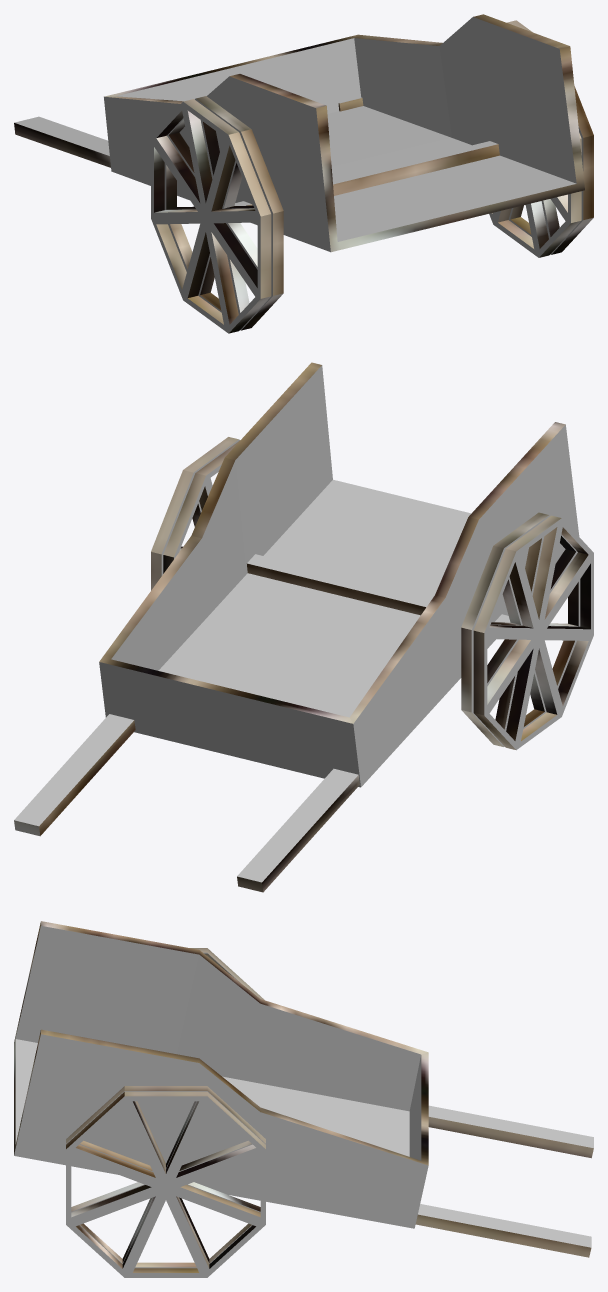
The model's file is Cart.fbx.
3 views of the same model, one above another, from view 1: azimuth 30°, elevation 25°; view 2: azimuth 150°, elevation 25°; view 3: azimuth 270°, elevation 25° (orthographic). The views are drawn at different scales.
Visible parts, largest first — view 1: Cube.018; view 2: Cube.018; view 3: Cube.018.
Boxes of the visible parts, box(x1,y1,x2,y2) form: Cube.018: box(14, 14, 593, 333); Cube.018: box(14, 362, 593, 892); Cube.018: box(14, 921, 593, 1277).
Size of the model in its own units: 510 by 364 by 842.
